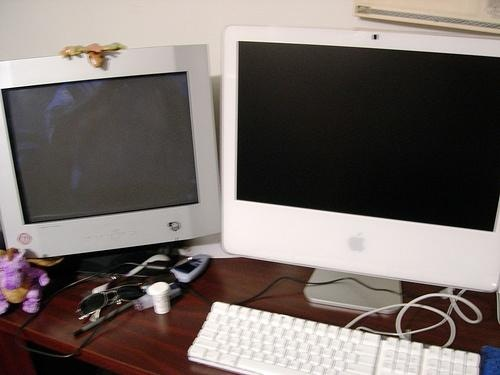tvmonitor: (221, 27, 500, 314), (1, 46, 223, 270)
